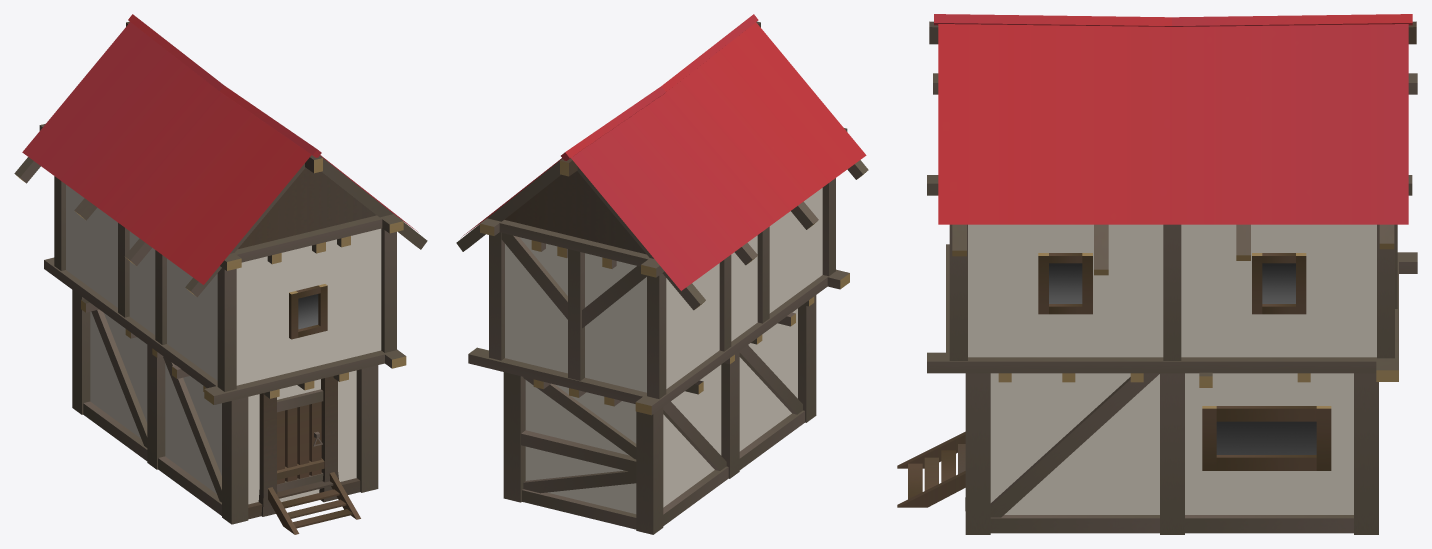
Rendered from House_2_LOD1.fbx.
3 views of the same model, side by side, from view 1: azimuth 30°, elevation 25°; view 2: azimuth 150°, elevation 25°; view 3: azimuth 270°, elevation 25° (orthographic). The views are drawn at different scales.
Visible parts, largest first — view 1: polySurface9611; view 2: polySurface9611; view 3: polySurface9611.
Part boxes in pixels (<box>): polySurface9611: <box>14,14,427,534</box>; polySurface9611: <box>456,14,868,534</box>; polySurface9611: <box>897,14,1417,534</box>.
Size of the model in its own units: 585 by 809 by 804.
